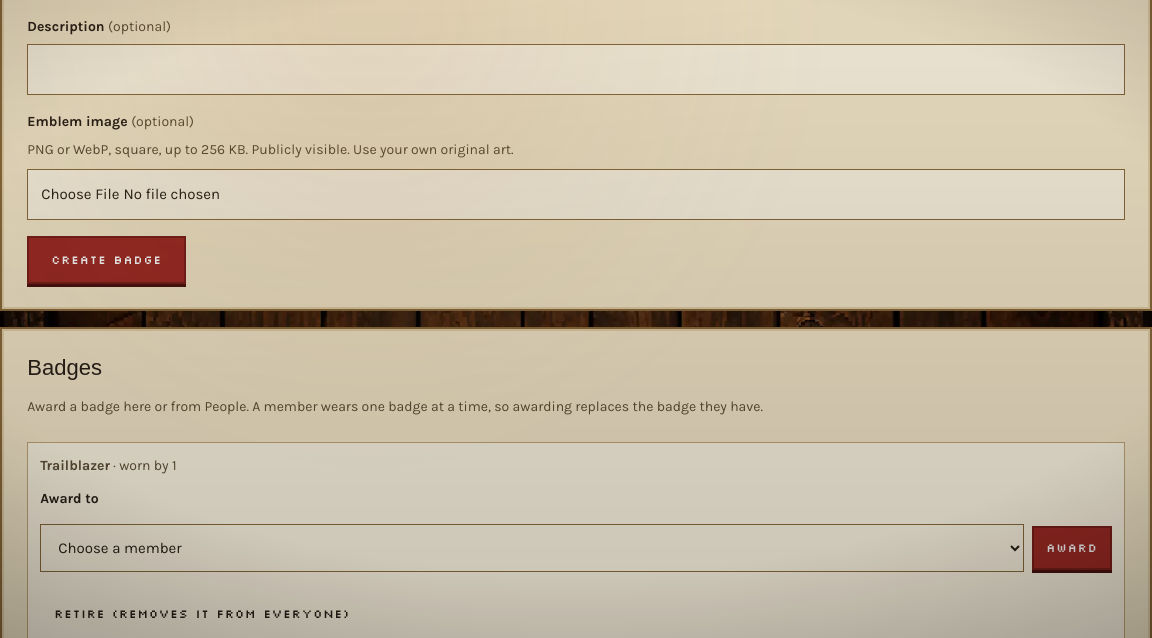
asks who should wear it before sending
The width and height of the screenshot is (1152, 638).
(page scrolled)
Click the button "Award". click: {"x": 1072, "y": 548}
box: top-left (1032, 526), bottom-right (1112, 570)
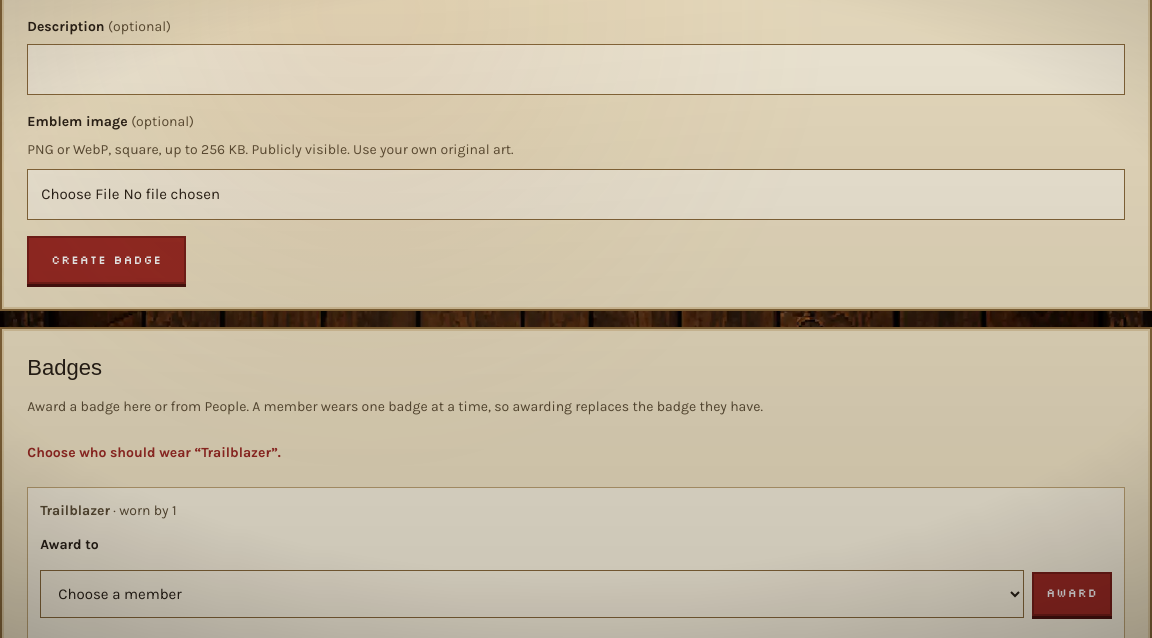
Now the message shows "Choose who should wear", box top-left (27, 444), bottom-right (281, 460)
